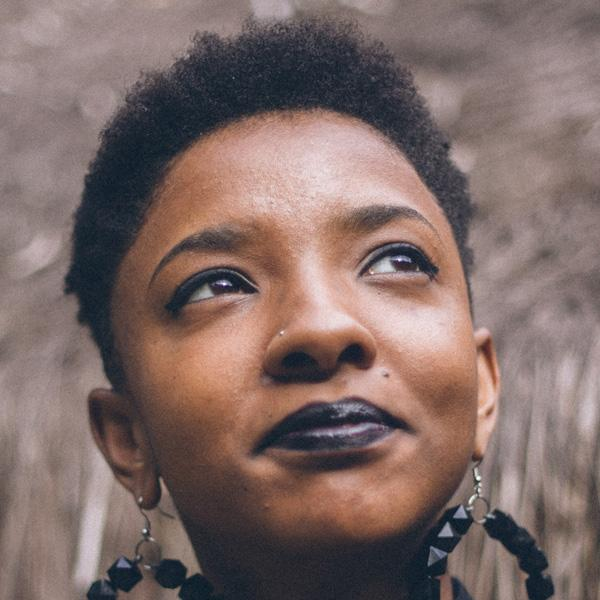Eyes: (162, 256, 268, 328), (348, 231, 444, 295)
